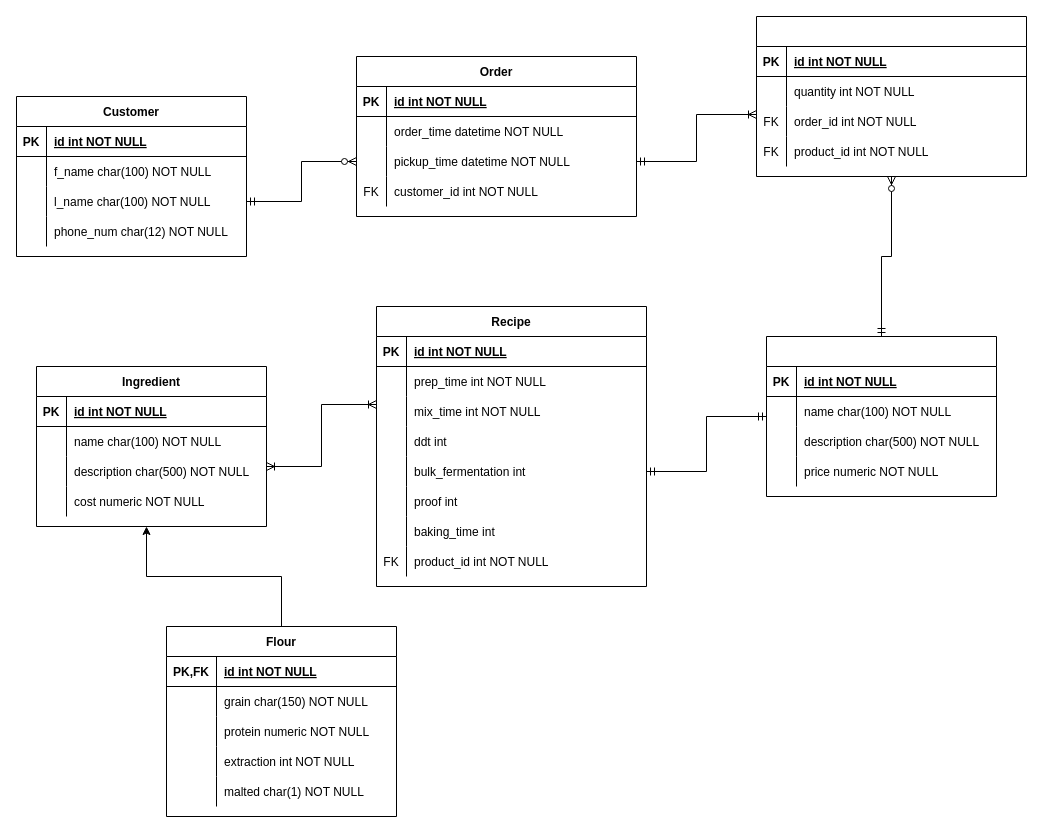
Some shapes in this 1043 by 833 pixel diagram are drawn without their labels. Each missing label, with the box of its shape:
LineItem: (756, 16, 1026, 176)
Product: (766, 336, 996, 496)
